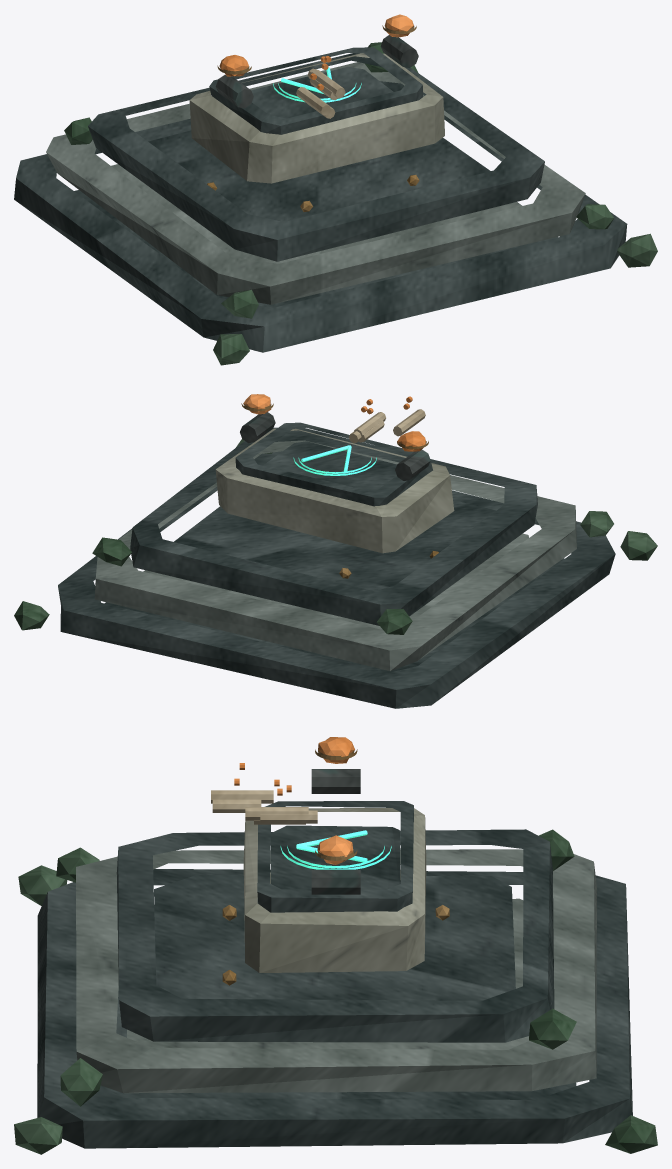
Rendered from 0466_altar_16.glb.
3 renders of one model, top to bottom at view 1: azimuth 30°, elevation 25°; view 2: azimuth 150°, elevation 25°; view 3: azimuth 270°, elevation 25°, orthographic. The views are drawn at different scales.
Parts seen in each view (by area): view 1: stone_dark, stone, stone_light, moss, iron, bone, amber, brass, glow; view 2: stone_dark, stone, stone_light, moss, iron, bone, amber, glow; view 3: stone_dark, stone, stone_light, moss, iron, bone, amber, glow, brass.
Part boxes in pixels (bbox=[...]): stone_dark: bbox=[14, 47, 627, 352]; stone: bbox=[46, 62, 585, 304]; stone_light: bbox=[189, 53, 444, 183]; moss: bbox=[64, 42, 657, 365]; iron: bbox=[215, 35, 418, 108]; bone: bbox=[296, 68, 345, 118]; amber: bbox=[219, 14, 413, 90]; brass: bbox=[207, 25, 419, 211]; glow: bbox=[273, 67, 361, 102]; stone_dark: bbox=[58, 422, 615, 708]; stone: bbox=[94, 440, 576, 671]; stone_light: bbox=[215, 428, 454, 553]; moss: bbox=[14, 439, 657, 634]; iron: bbox=[240, 412, 430, 480]; bone: bbox=[349, 409, 425, 443]; amber: bbox=[243, 394, 426, 451]; glow: bbox=[293, 445, 376, 475]; stone_dark: bbox=[37, 801, 632, 1148]; stone: bbox=[76, 849, 596, 1093]; stone_light: bbox=[243, 808, 426, 972]; moss: bbox=[14, 829, 657, 1154]; iron: bbox=[311, 769, 360, 894]; bone: bbox=[211, 790, 317, 824]; amber: bbox=[234, 737, 354, 864]; glow: bbox=[280, 830, 391, 869]; brass: bbox=[222, 749, 449, 985].
Size of the model in its own units: 3.1 by 1.29 by 3.14.
9 materials, 9 textured.
